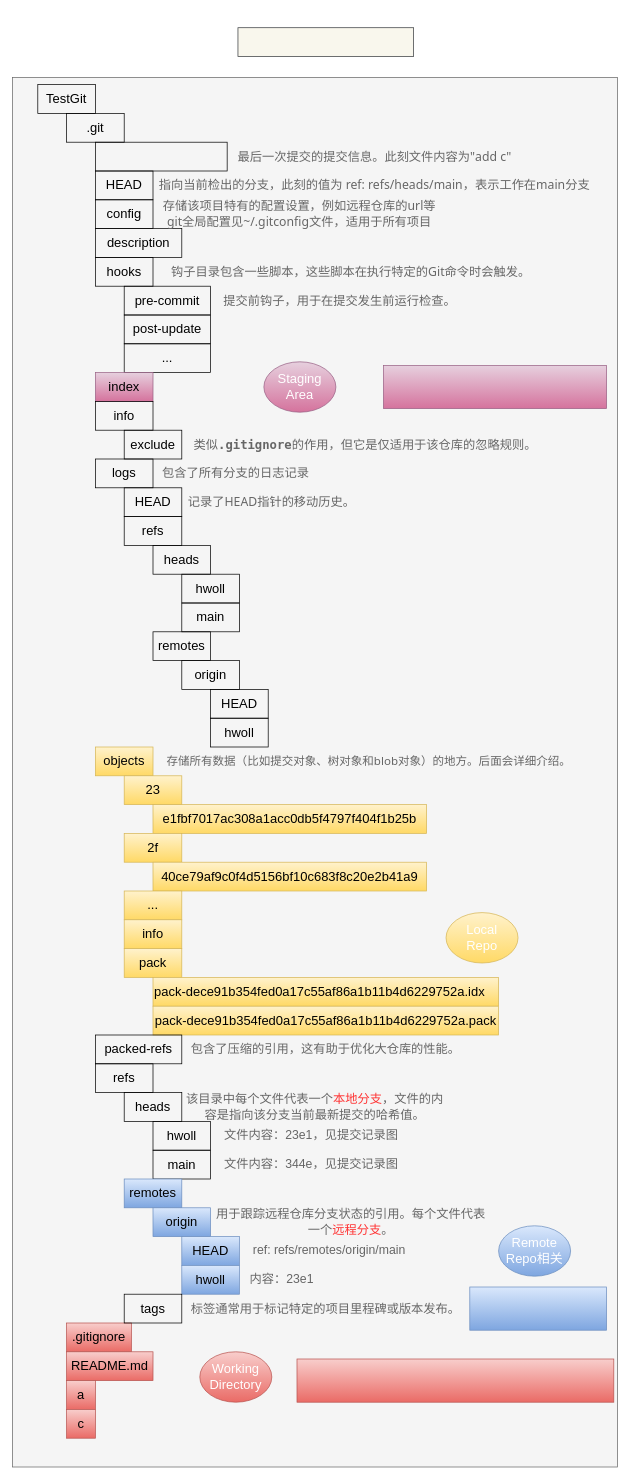
Some shapes in this 634 by 1480 pixel diagram are drawn without their labels. Here are the shapes that lost their labels. From the top down, the centre of each, then its label:
At (325,42): "TestGit项目 本地目录(main branch)".
At (161,156): "COMMIT_EDITMSG".
At (495,387): "工作目录和本地仓库之间的缓冲区域，用于存储即将提交到本地仓库的更改。".
At (538,1308): "真正的远程仓库是GitHub上的该项目".
At (455,1380): "在项目目录中，除了 .git 目录以外的所有文件和目录都属于工作目录".
